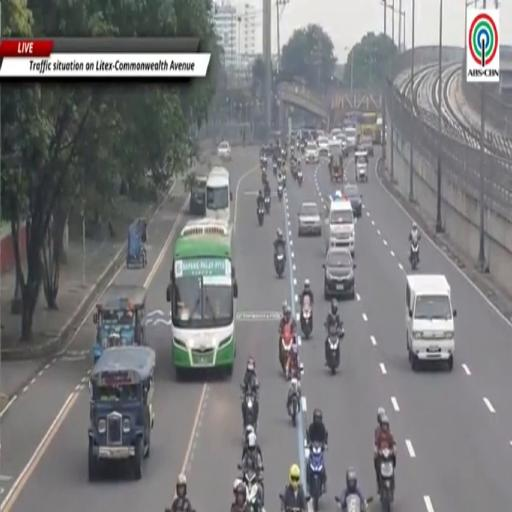bus: (167, 218, 238, 377), (206, 167, 232, 222), (360, 112, 380, 143)
car: (323, 248, 356, 299), (298, 202, 321, 236), (189, 176, 206, 216), (342, 184, 362, 218), (344, 126, 358, 151), (358, 135, 373, 156), (305, 142, 319, 164), (217, 141, 231, 161), (336, 134, 348, 156), (318, 136, 329, 156), (330, 138, 342, 153)
jeepney: (89, 347, 155, 481), (93, 285, 146, 362), (355, 151, 368, 182), (330, 153, 343, 183)
motorcycle: (306, 442, 324, 511), (379, 447, 394, 511), (326, 325, 344, 374), (243, 468, 262, 511), (279, 325, 293, 374), (288, 376, 300, 426), (243, 393, 257, 431), (300, 296, 312, 339), (345, 493, 373, 511), (279, 493, 300, 511), (274, 250, 285, 278), (410, 242, 419, 269), (258, 206, 264, 226), (264, 196, 270, 214), (291, 160, 296, 180), (277, 184, 282, 201), (297, 170, 302, 186), (262, 168, 267, 184), (282, 170, 286, 188), (273, 162, 277, 175), (301, 143, 305, 154)
